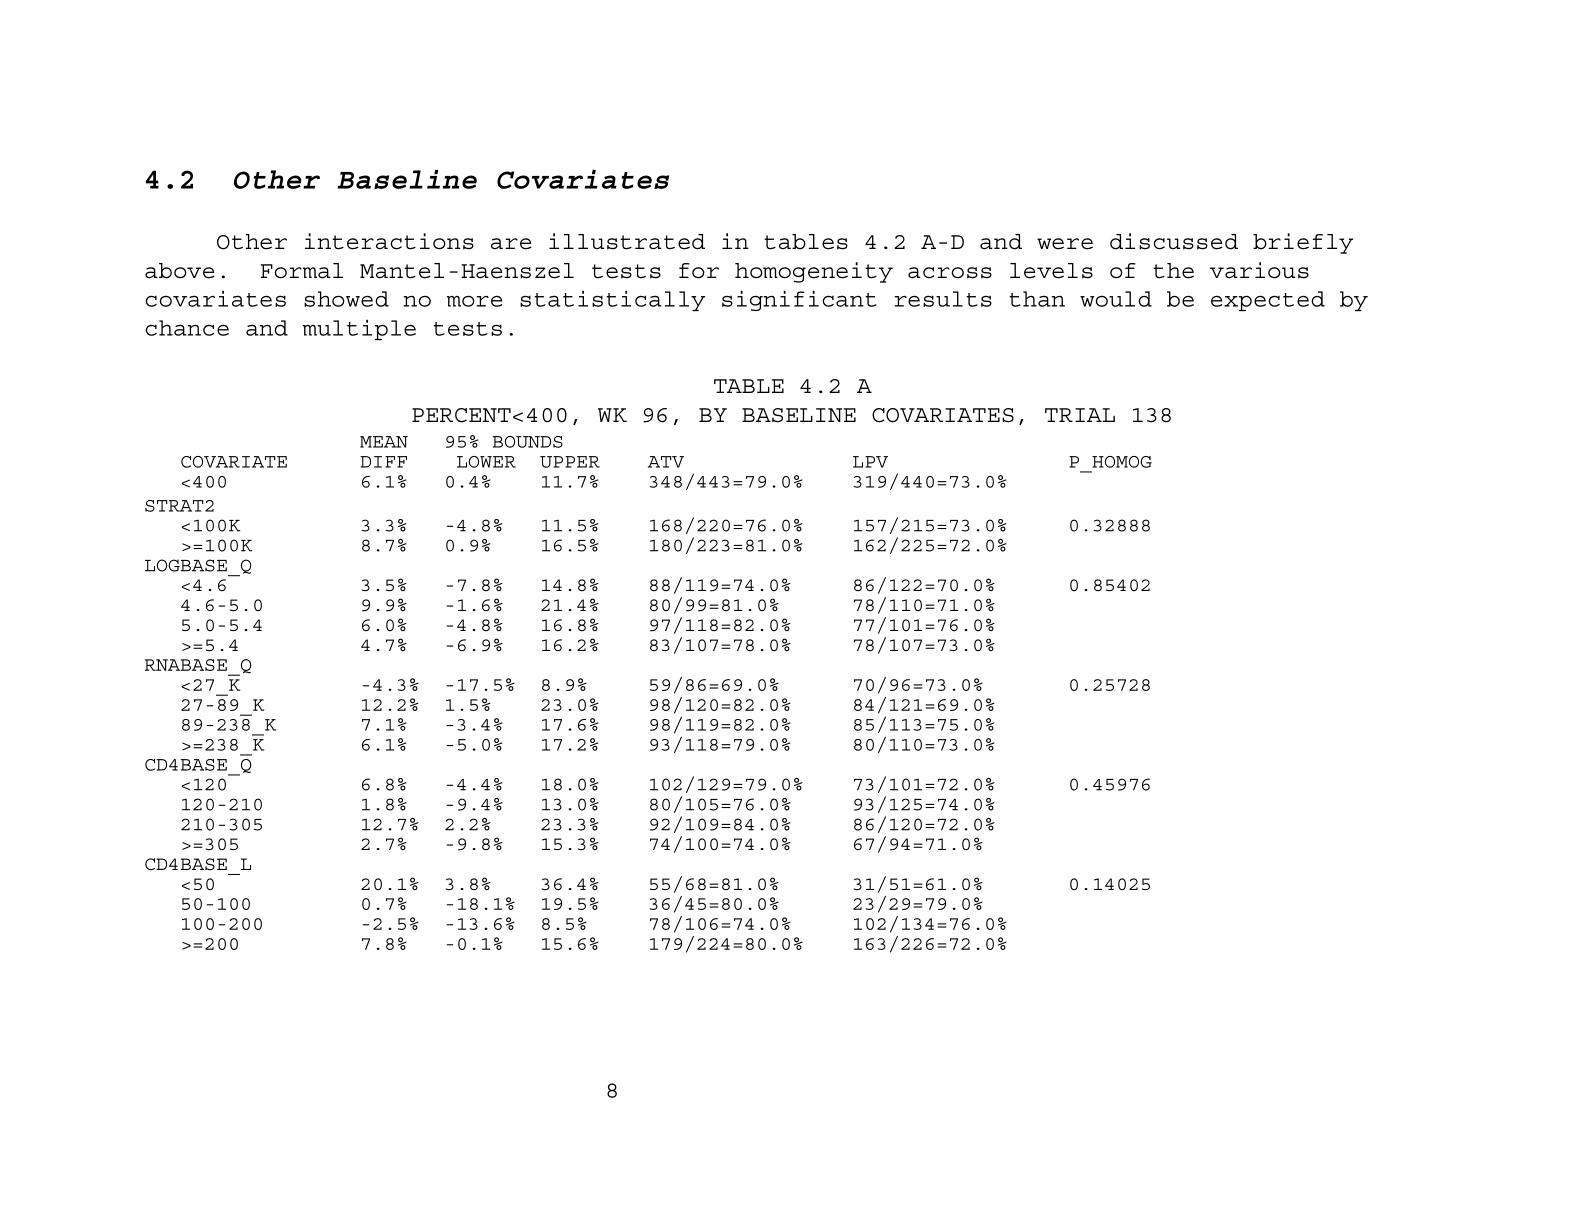nolines: (141, 433, 1157, 953)
